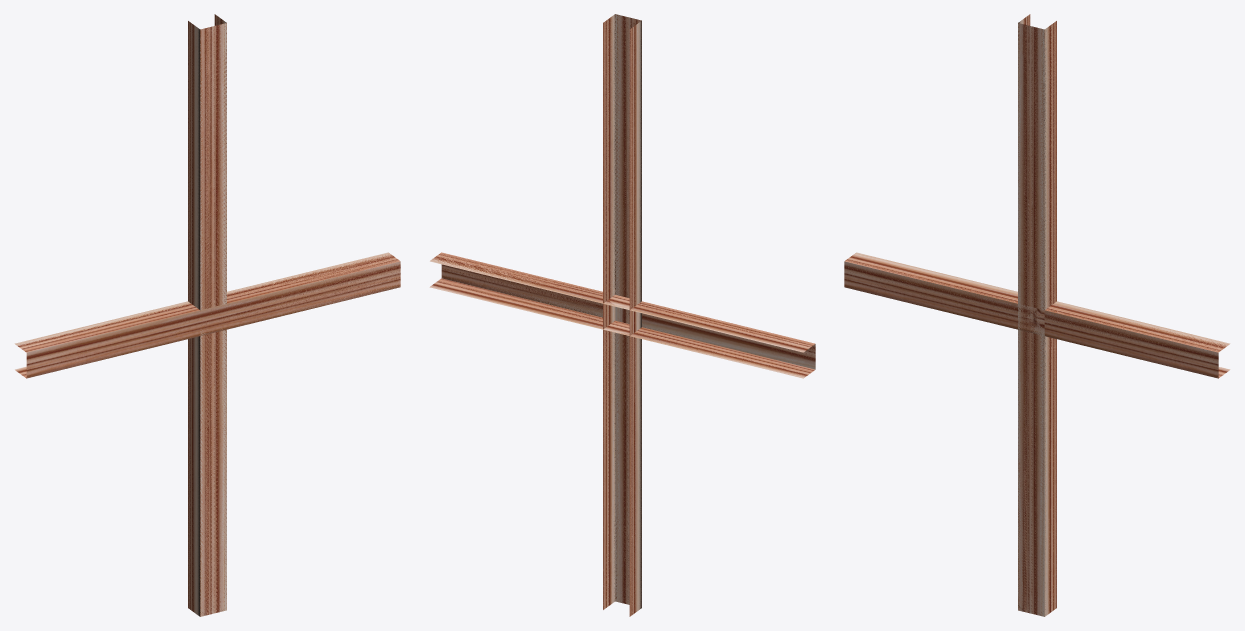
The model's file is huakuang003.obj.
3 renders of one model, left to right at view 1: azimuth 30°, elevation 25°; view 2: azimuth 150°, elevation 25°; view 3: azimuth 330°, elevation 25°, orthographic.
Parts seen in each view (by area): view 1: Right, Left, Top, Bottom; view 2: Right, Left, Bottom, Top; view 3: Right, Top, Left, Bottom.
Boxes of the visible parts, left/top/right/bottom form: Right: left=188, top=14, right=226, bottom=616; Left: left=188, top=16, right=226, bottom=616; Top: left=15, top=252, right=400, bottom=378; Bottom: left=15, top=253, right=400, bottom=378; Right: left=603, top=14, right=641, bottom=615; Left: left=603, top=14, right=641, bottom=616; Bottom: left=430, top=252, right=815, bottom=378; Top: left=429, top=252, right=815, bottom=376; Right: left=1018, top=14, right=1056, bottom=616; Top: left=844, top=252, right=1230, bottom=378; Left: left=1018, top=15, right=1056, bottom=615; Bottom: left=844, top=253, right=1228, bottom=377.
Bounding box in the file's own units: 1 × 1.5 × 0.0566.
Materials: 1 (1 with a texture image).
